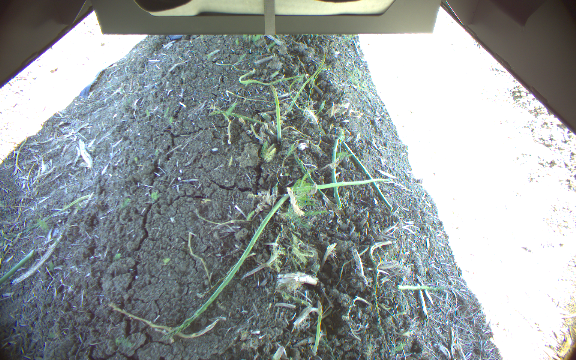aspa: (267, 83, 283, 143), (310, 298, 323, 353)
